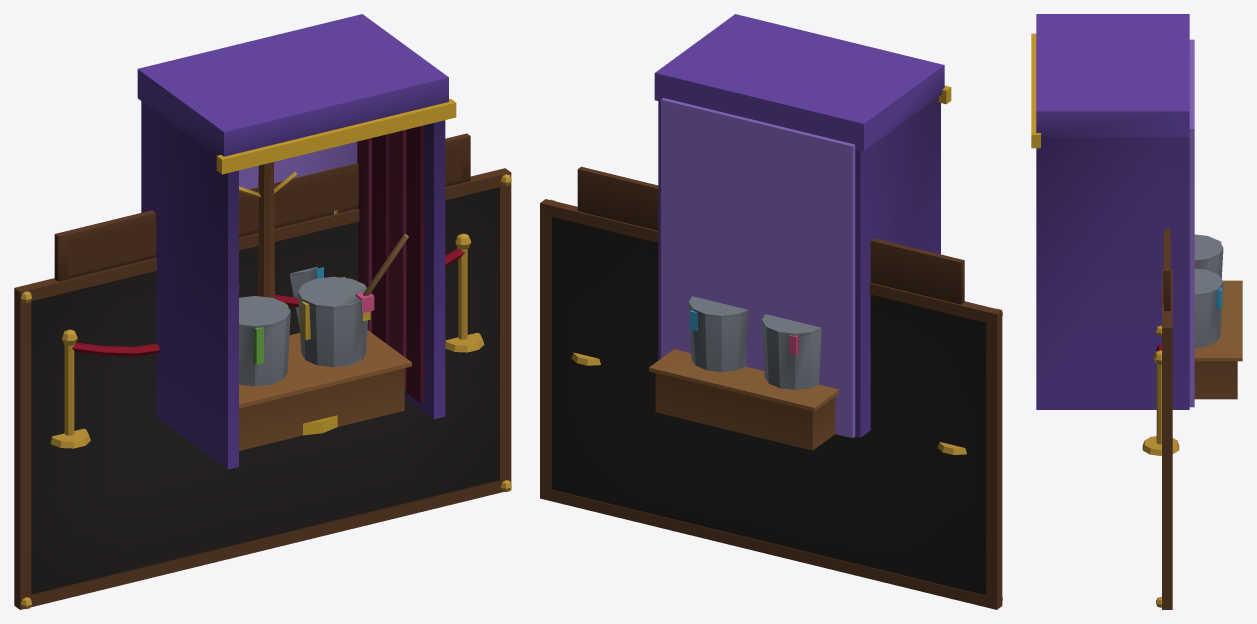
Rendered from wardrobe.glb.
3 views of the same model, side by side, from view 1: azimuth 30°, elevation 25°; view 2: azimuth 150°, elevation 25°; view 3: azimuth 270°, elevation 25° (orthographic). The views are drawn at different scales.
Visible parts, largest first — view 1: DYN_fame, DYN_booth, DYN_paint, DYN_vip, DYN_hats; view 2: DYN_fame, DYN_booth, DYN_paint; view 3: DYN_booth, DYN_paint, DYN_fame, DYN_vip.
Part boxes in pixels (x1,y1,x2,y2): DYN_fame: (14, 133, 511, 609); DYN_booth: (137, 14, 456, 469); DYN_paint: (239, 234, 411, 450); DYN_vip: (50, 233, 484, 448); DYN_hats: (239, 162, 297, 298); DYN_fame: (540, 166, 1002, 609); DYN_booth: (654, 14, 951, 438); DYN_paint: (649, 296, 839, 450); DYN_booth: (1031, 14, 1194, 409); DYN_paint: (1194, 234, 1242, 399); DYN_fame: (1156, 229, 1172, 609); DYN_vip: (1142, 344, 1179, 455).
Bounding box in the file's own units: 5.24 × 5.07 × 2.2.
